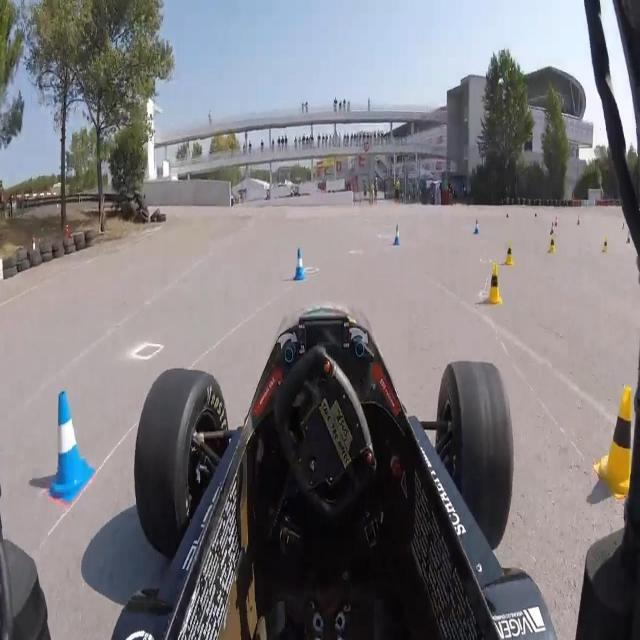blue_cone: (46, 391, 94, 502), (294, 248, 306, 284), (393, 224, 402, 246), (473, 219, 481, 237), (550, 220, 556, 237)
yellow_cone: (598, 385, 634, 495), (486, 262, 504, 303), (505, 243, 514, 266), (548, 236, 556, 254), (602, 236, 608, 254)
